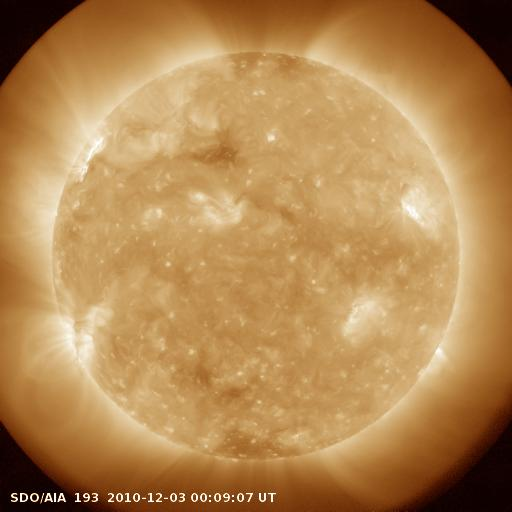coronal_hole: (203, 424, 306, 466), (190, 135, 236, 164)
